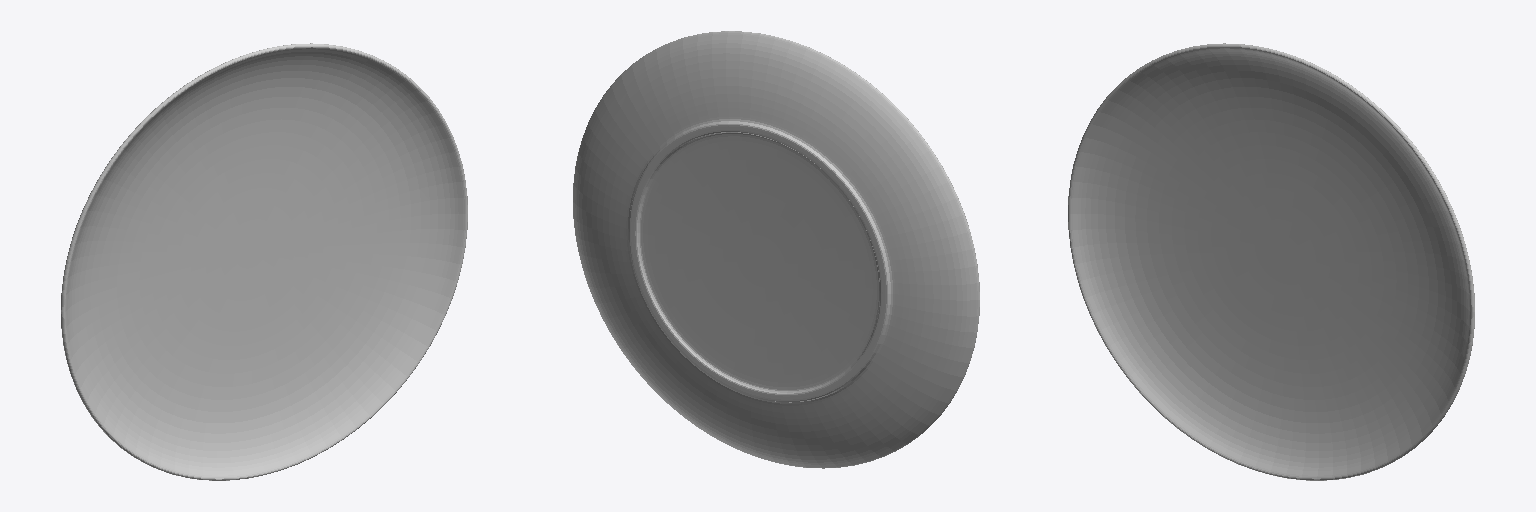
The model's file is PlateLargeSize.obj.
3 views of the same model, side by side, from view 1: azimuth 30°, elevation 25°; view 2: azimuth 150°, elevation 25°; view 3: azimuth 330°, elevation 25° (orthographic).
Visible parts, largest first — view 1: PlateLargeSize; view 2: PlateLargeSize; view 3: PlateLargeSize.
Part boxes in pixels (x1,y1,x2,y2): PlateLargeSize: (61,43,467,480); PlateLargeSize: (573,31,979,468); PlateLargeSize: (1068,43,1474,480).
Size of the model in its own units: 0.2657 by 0.2657 by 0.022.